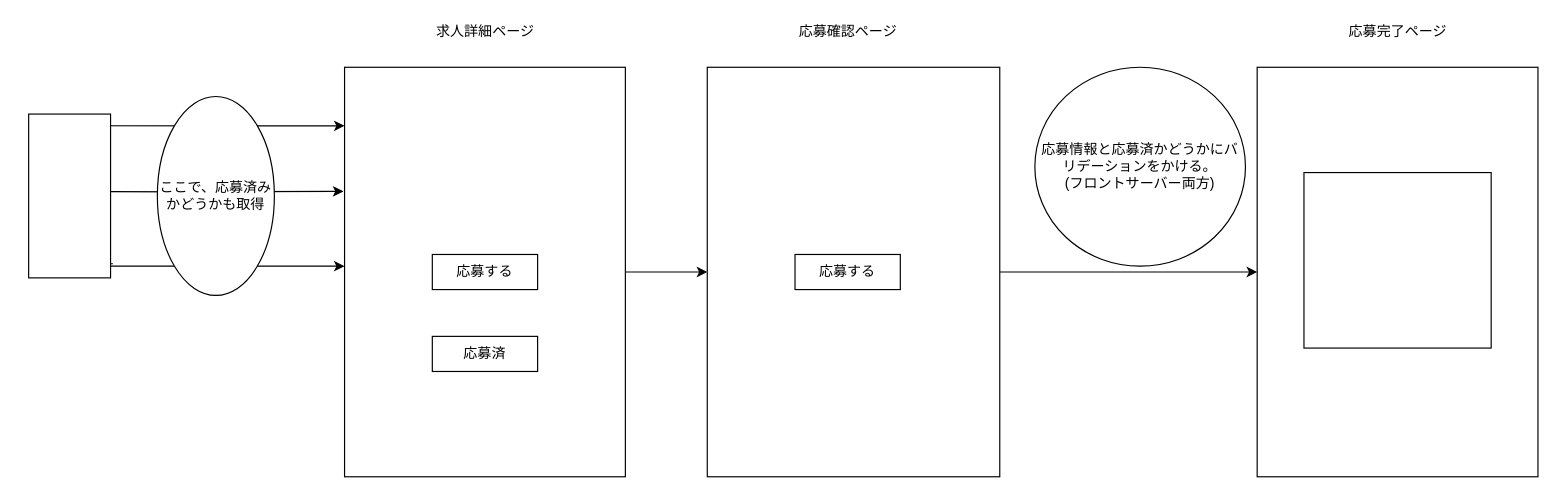
Image size: 1558x497. Some labels were removed from this diagram. Each missing label, with the centre of its shape:
応募完了しました: (1397,259)
色んなとこから: (69,195)
